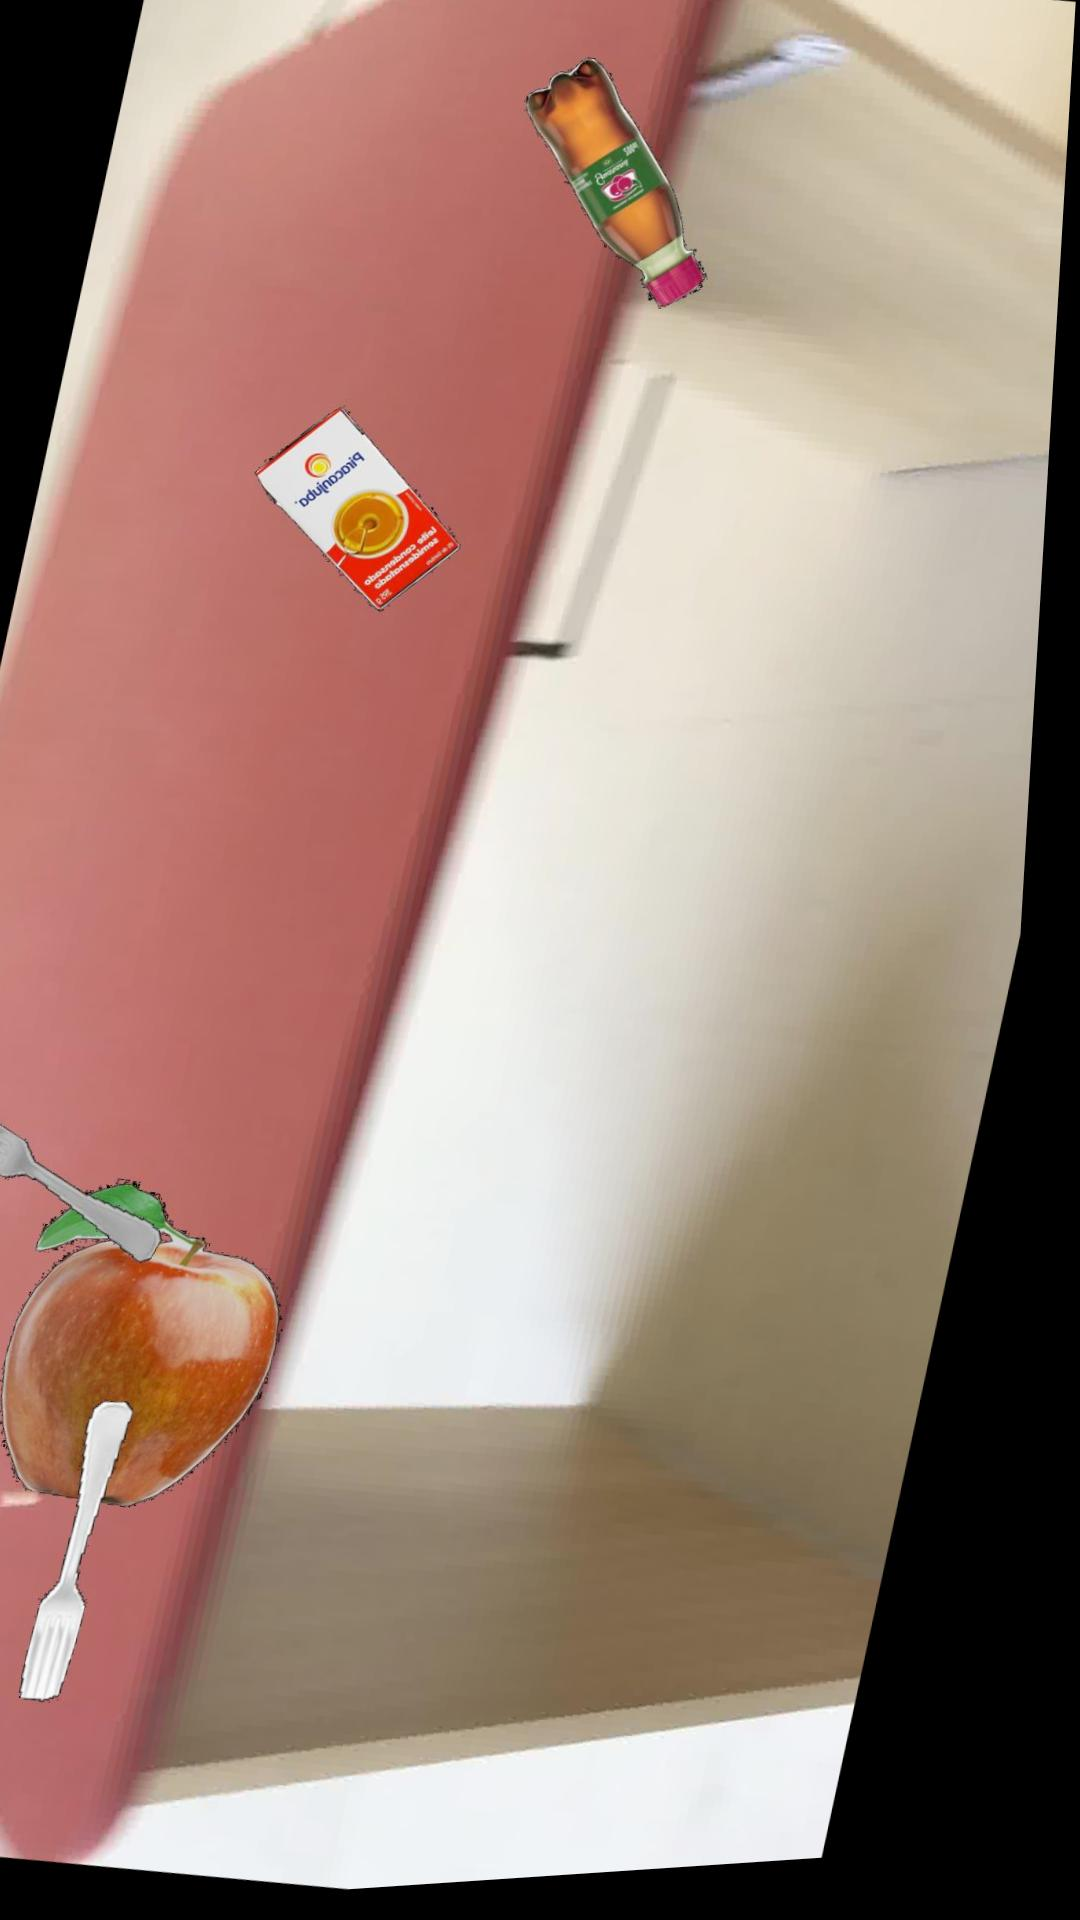apple: (20, 1183, 301, 1509)
fork: (42, 1403, 153, 1702), (0, 1113, 179, 1265)
guarana: (529, 65, 712, 315)
